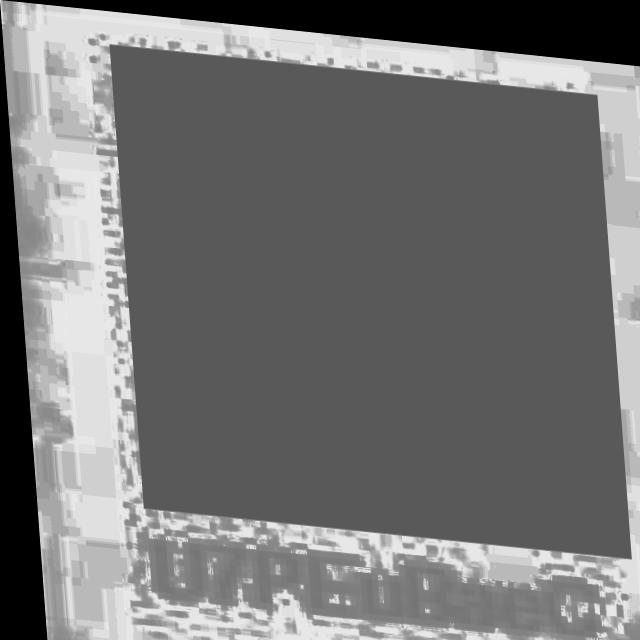qr_code: (109, 43, 624, 546)
